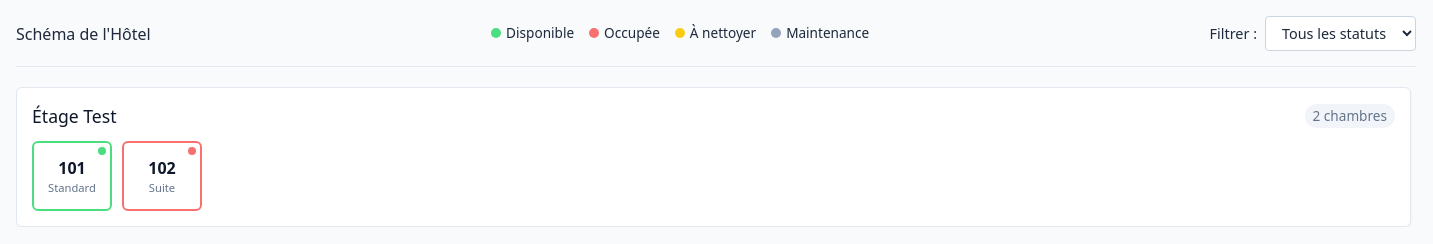
Test: HotelSchematicView Component › filters rooms based on selected status
Expected: the text "101" is shown, [58,156,86,180]
Expected: the text "102" is shown, [148,156,176,180]
Select "Disponible" in the dropdown labelled "Filtrer :". click: [1340, 34]
box: [1265,16,1416,51]
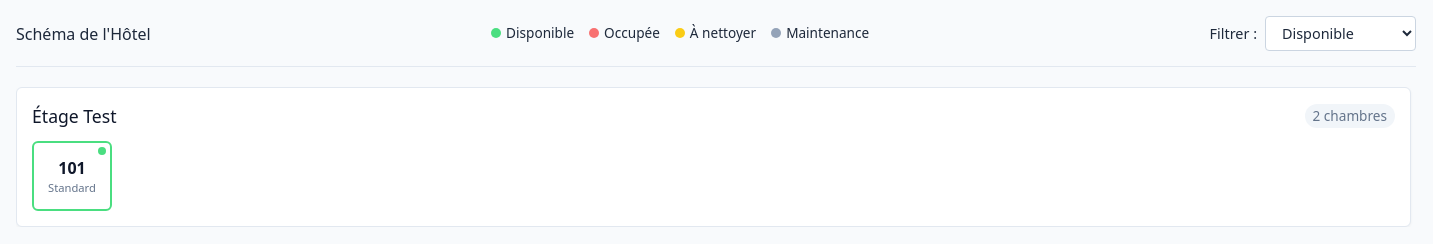
Expected: the text "101" is shown, [58,156,86,180]
Expected: the text "102" is gone
